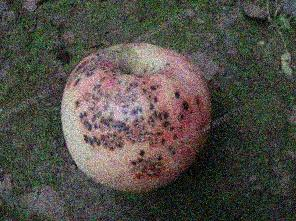rotten apple: (58, 44, 221, 197)
